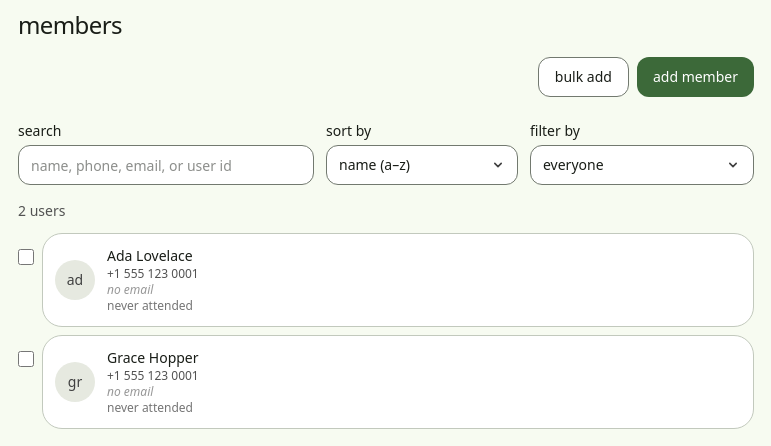
Test case: MembersScreen › filters members by user id prefix when searching
Type "abc12" into the field labelled "search" at {"x": 166, "y": 165}, box [18,145,314,185]
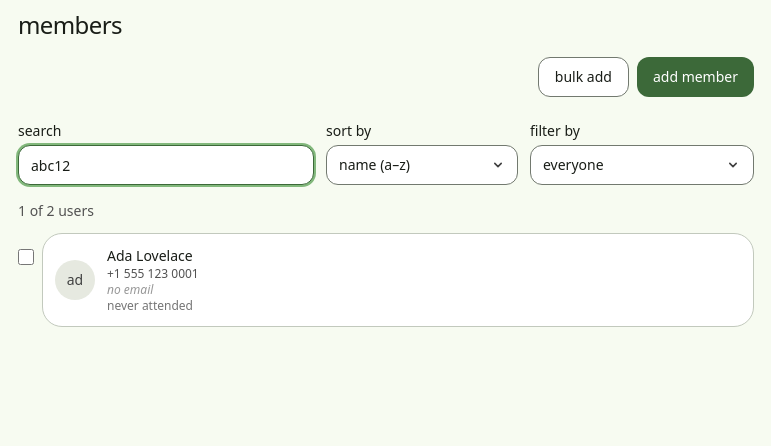
Expected: the text "Ada Lovelace" is shown, [107,246,193,265]
Result: the link "Grace Hopper" is gone
